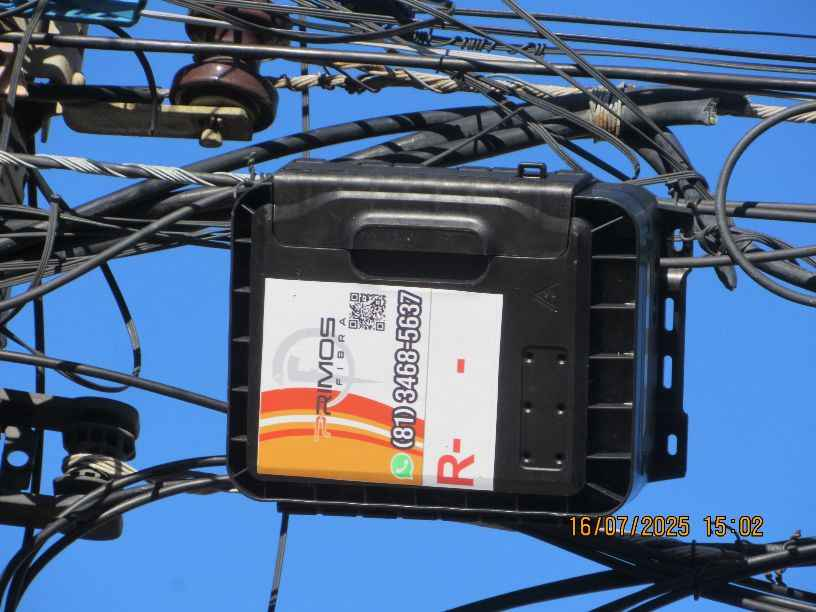caixa_derivacao: (210, 150, 698, 527)
fibra_optica: (223, 22, 689, 134)
